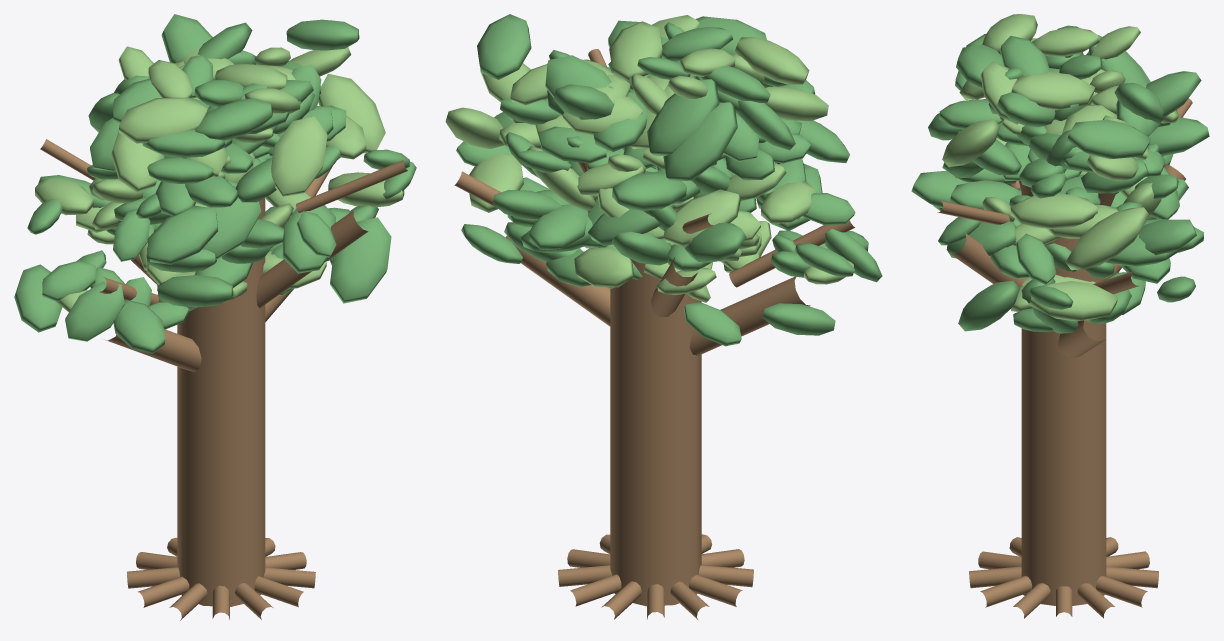
Rendered from oak_02.gltf.
3 views of the same model, side by side, from view 1: azimuth 30°, elevation 25°; view 2: azimuth 150°, elevation 25°; view 3: azimuth 270°, elevation 25° (orthographic). The views are drawn at different scales.
Parts seen in each view (by area): view 1: Leaf_Foliage, Bark, LeafLight_Foliage; view 2: Leaf_Foliage, Bark, LeafLight_Foliage; view 3: Leaf_Foliage, Bark, LeafLight_Foliage.
Boxes of the visible parts, <box> form: Leaf_Foliage: <box>14,14,416,353</box>; Bark: <box>40,139,407,620</box>; LeafLight_Foliage: <box>35,46,404,311</box>; Leaf_Foliage: <box>456,14,882,346</box>; Bark: <box>454,49,854,620</box>; LeafLight_Foliage: <box>445,15,853,302</box>; Leaf_Foliage: <box>911,25,1209,333</box>; Bark: <box>937,98,1192,618</box>; LeafLight_Foliage: <box>942,14,1178,321</box>.
Bounding box in the file's own units: 3.59 × 4.77 × 2.42.
